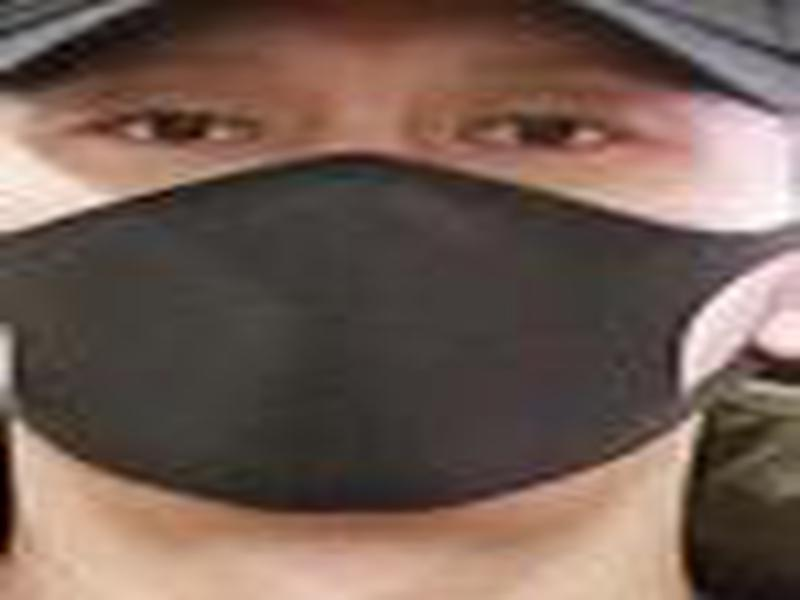with_mask: (1, 5, 792, 529)
